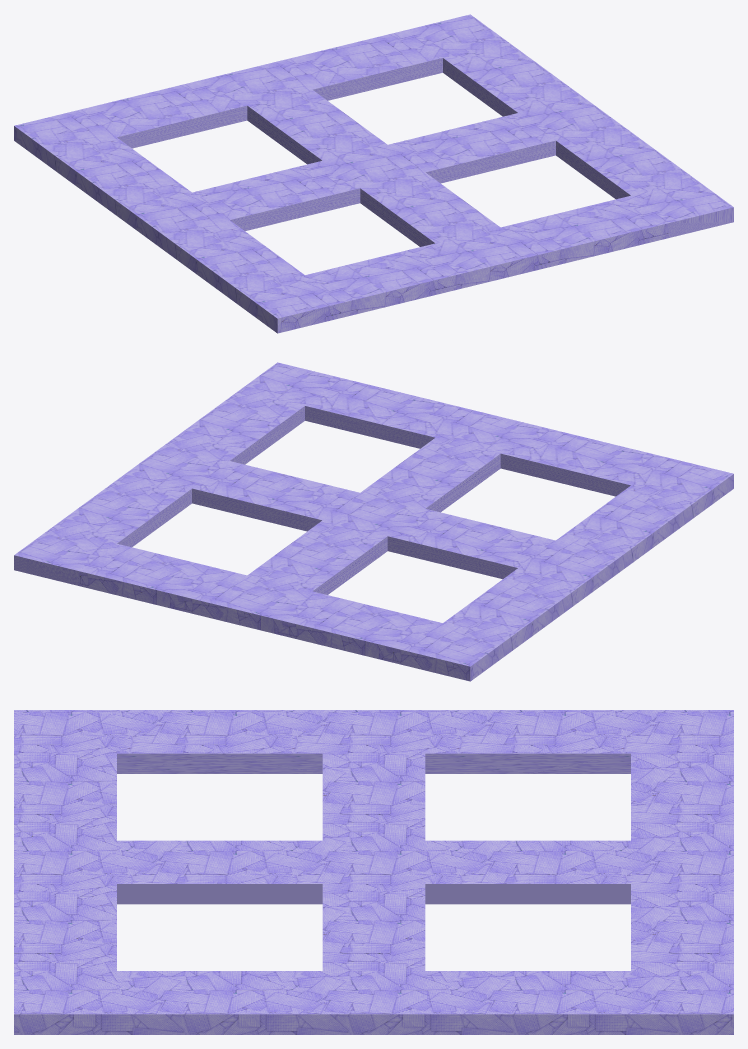
Rendered from level_04.glb.
3 renders of one model, top to bottom at view 1: azimuth 30°, elevation 25°; view 2: azimuth 150°, elevation 25°; view 3: azimuth 270°, elevation 25°, orthographic. The views are drawn at different scales.
Visible parts, largest first — view 1: Cube.001, Cube.003, Cube.002, Cube.006, Cube, Cube.005, Cube.004; view 2: Cube.002, Cube.001, Cube.003, Cube.006, Cube, Cube.005, Cube.004; view 3: Cube.001, Cube.003, Cube, Cube.002, Cube.006, Cube.005, Cube.004.
Boxes of the visible parts, left/top/right/bottom form: Cube.001: left=405, top=14, right=733, bottom=237; Cube.003: left=51, top=137, right=342, bottom=333; Cube.002: left=14, top=30, right=442, bottom=167; Cube.006: left=305, top=195, right=668, bottom=317; Cube: left=247, top=89, right=500, bottom=246; Cube.005: left=192, top=160, right=360, bottom=231; Cube.004: left=388, top=113, right=555, bottom=183; Cube.002: left=79, top=543, right=507, bottom=681; Cube.001: left=14, top=362, right=342, bottom=585; Cube.003: left=443, top=458, right=733, bottom=653; Cube.006: left=305, top=378, right=668, bottom=496; Cube: left=247, top=437, right=500, bottom=594; Cube.005: left=387, top=508, right=555, bottom=579; Cube.004: left=192, top=461, right=359, bottom=531; Cube.001: left=14, top=971, right=733, bottom=1034; Cube.003: left=14, top=710, right=630, bottom=773; Cube: left=117, top=840, right=630, bottom=904; Cube.002: left=631, top=710, right=733, bottom=970; Cube.006: left=14, top=753, right=116, bottom=970; Cube.005: left=322, top=753, right=425, bottom=840; Cube.004: left=322, top=884, right=425, bottom=970.
Bounding box in the file's own units: 32 × 1 × 32.
Materials: 1 (1 with a texture image).
